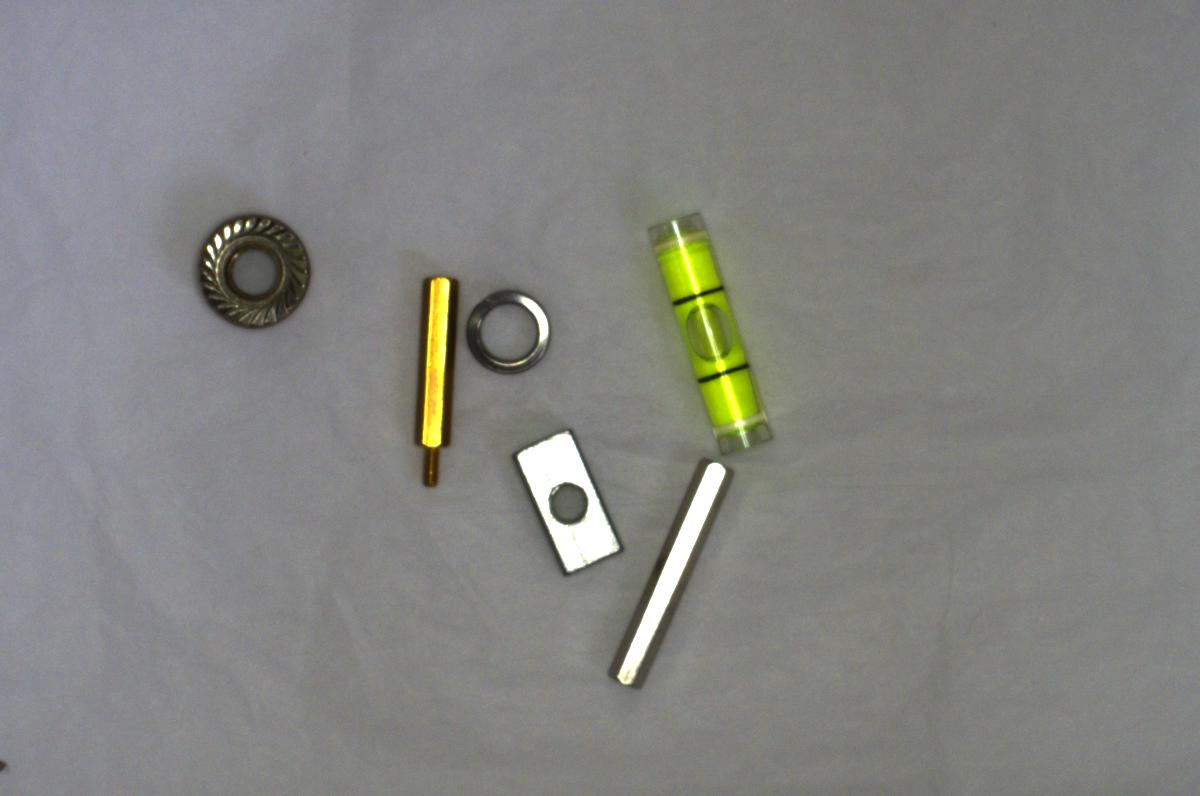Double hexagonal column: (601, 450, 728, 688)
Flange nut: (175, 205, 332, 347)
Hexagon pillar: (411, 270, 454, 494)
Horizontal bubble: (644, 195, 790, 467)
Rectangular nut: (501, 421, 624, 586)
Spring washer: (461, 283, 561, 383)
